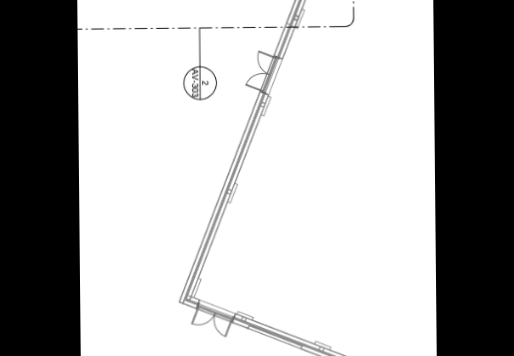double door: (187, 298, 240, 340), (243, 49, 283, 94)
